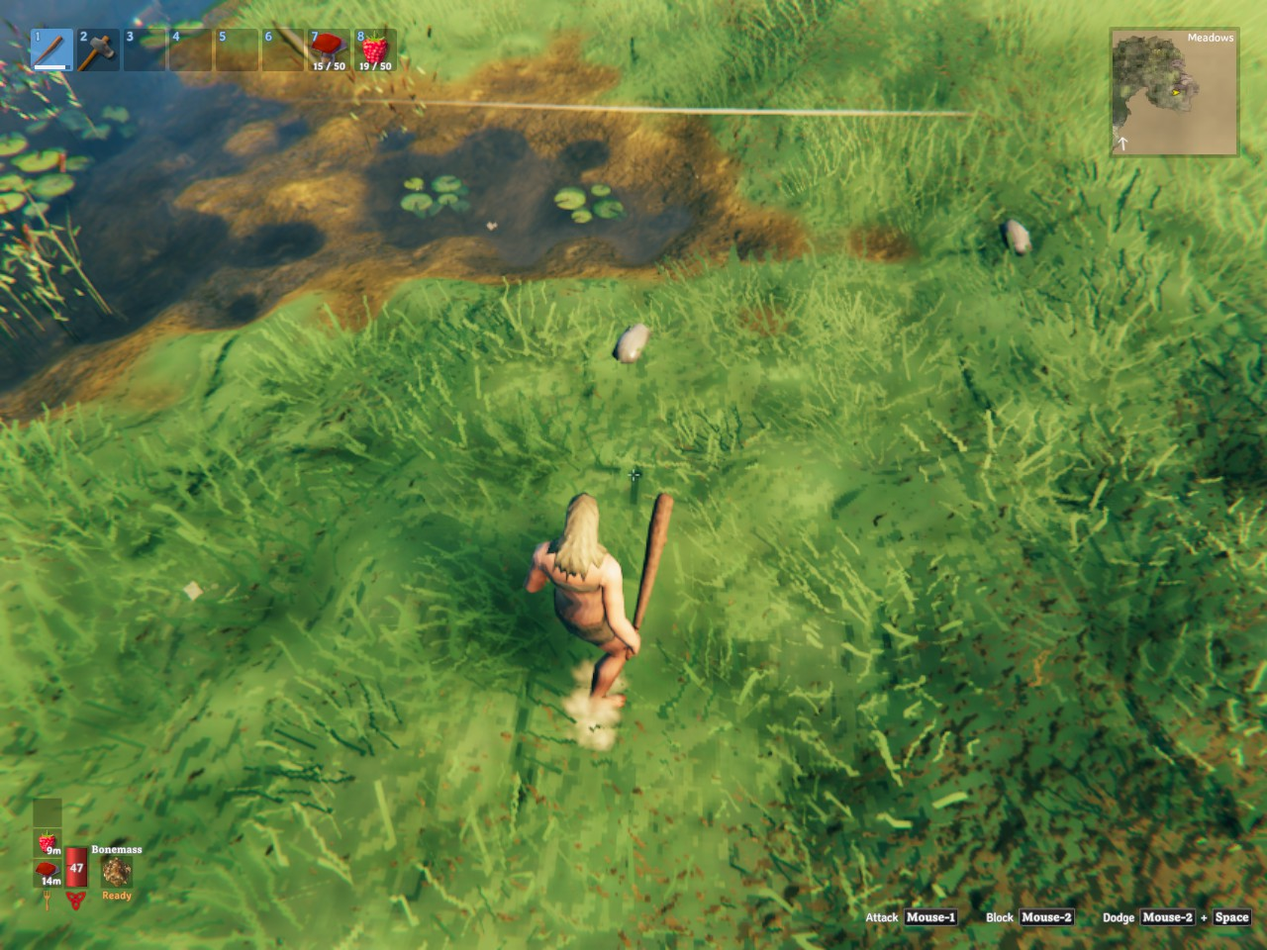Flint: (615, 324, 650, 362), (1002, 219, 1030, 255)
